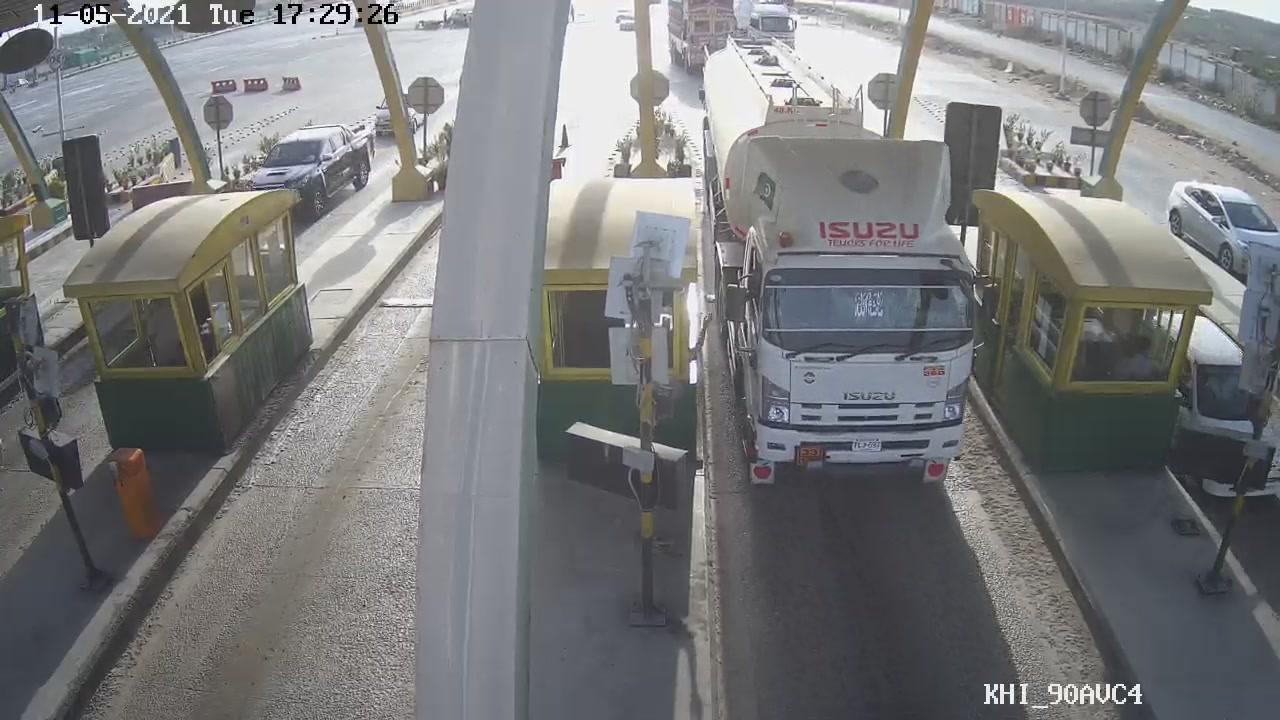F6: (688, 38, 960, 499)
